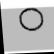no answer: (9, 4, 48, 37)
